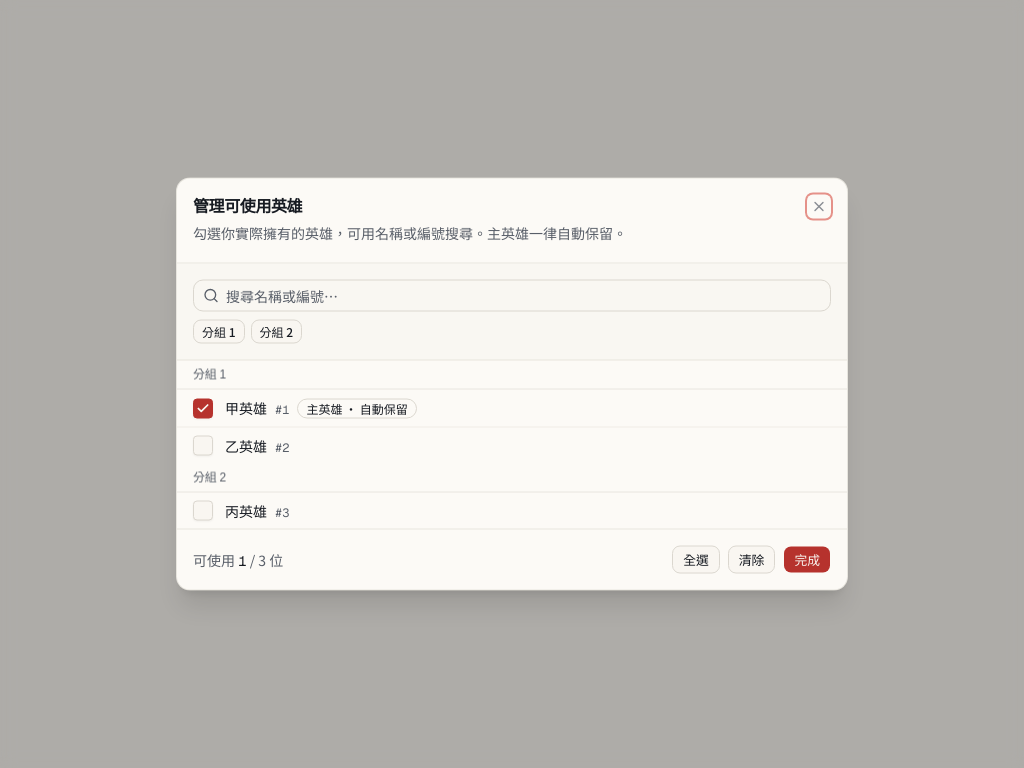
Test: HeroRosterDialog › 搜尋可用名稱或編號過濾，查無時顯示提示
Step 1. Type "丙" into the search field named "搜尋英雄名稱或編號" → [512, 296], box [193,280,831,312]
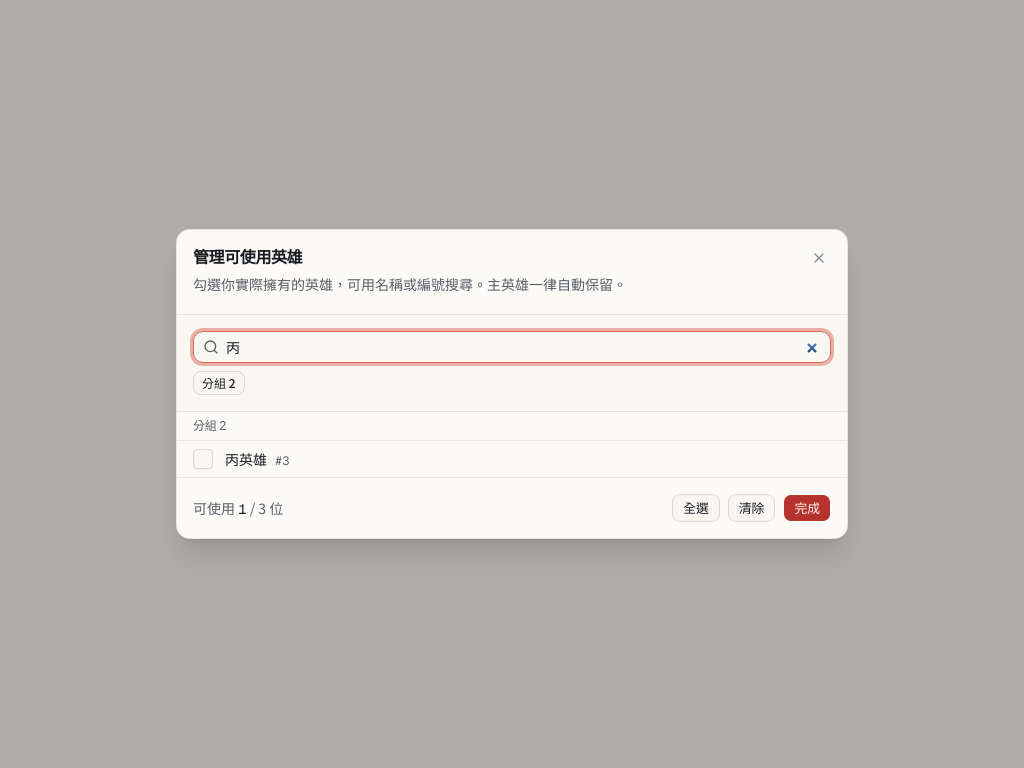
Expected: the text "丙英雄" is shown, [225,449,267,469]
Now the text "乙英雄" is gone
Step 2. Clear the search field named "搜尋英雄名稱或編號" → [512, 347], box [193,331,831,363]
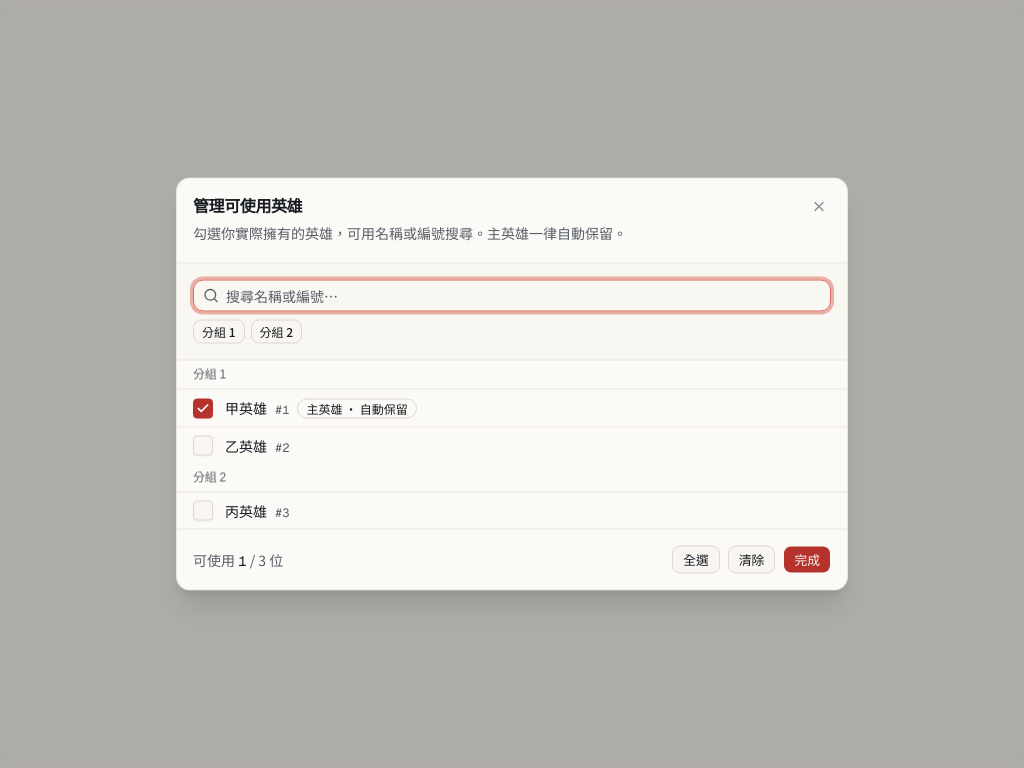
Step 3. Type "3" into the search field named "搜尋英雄名稱或編號" → [512, 296], box [193,280,831,312]
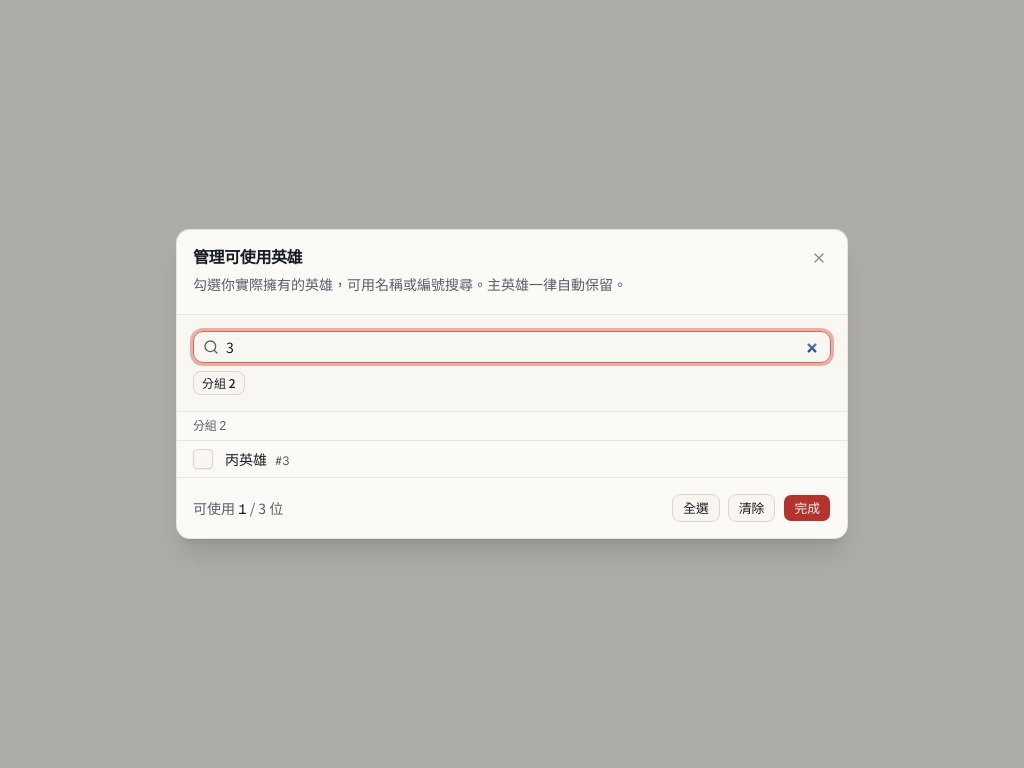
Expected: the text "丙英雄" is shown, [225,449,267,469]
Step 4. Clear the search field named "搜尋英雄名稱或編號" → [512, 347], box [193,331,831,363]
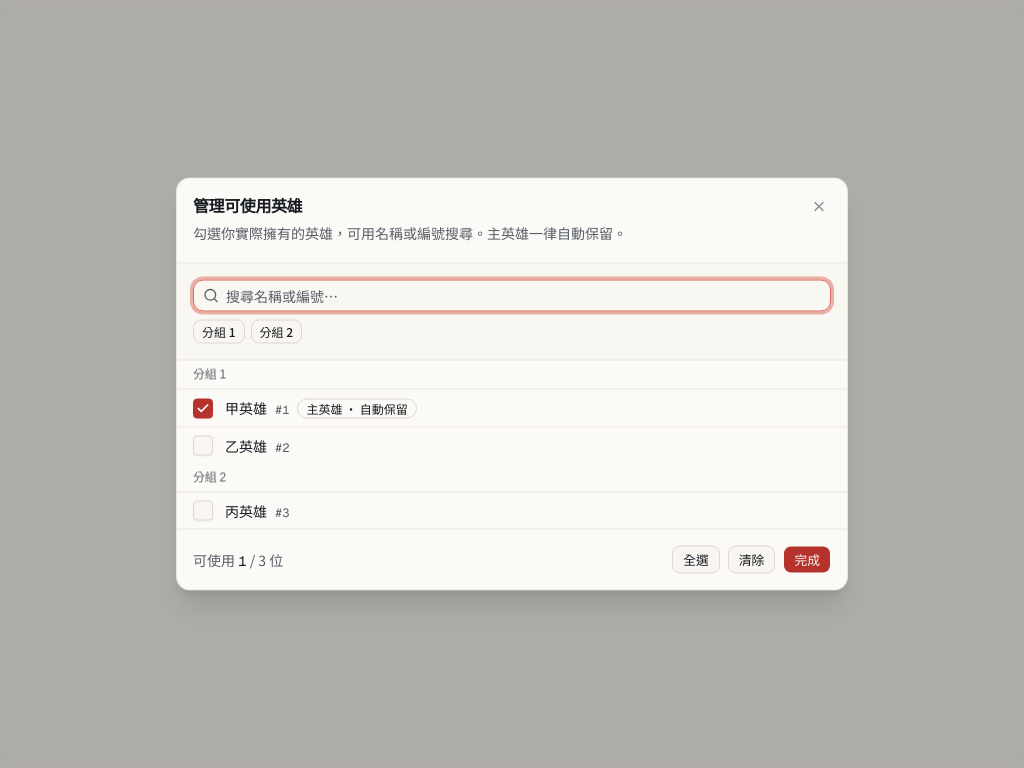
Step 5. Type "查無此人" into the search field named "搜尋英雄名稱或編號" → [512, 296], box [193,280,831,312]
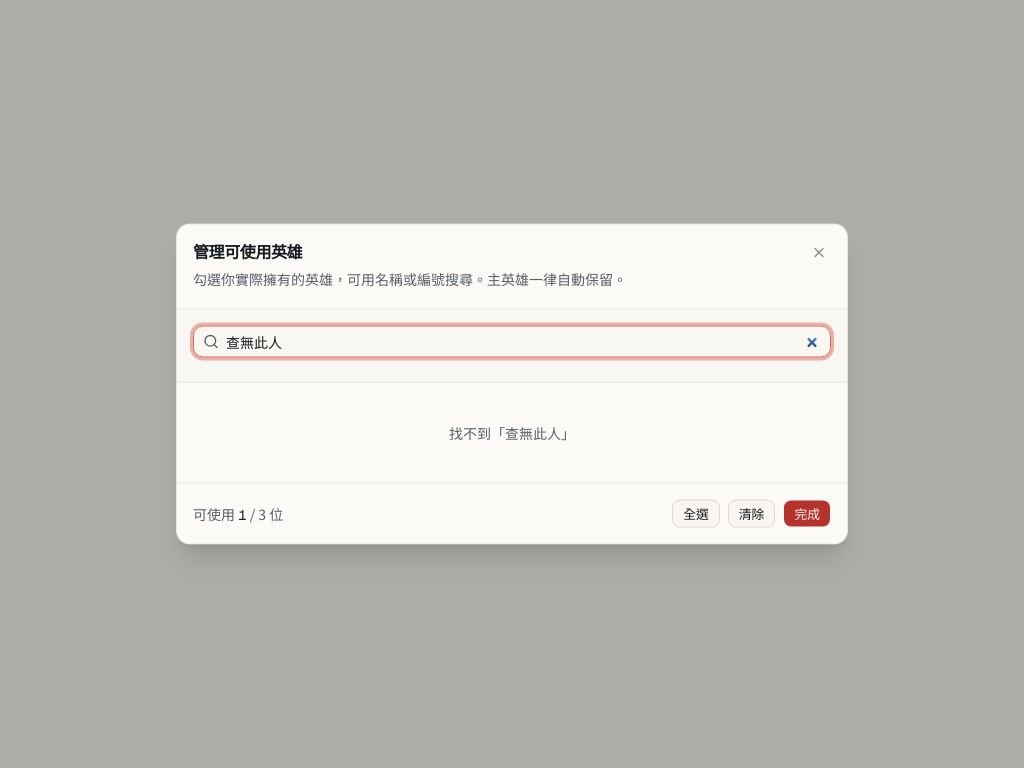
Now the text "找不到「查無此人」" is shown, box [449,422,575,442]
